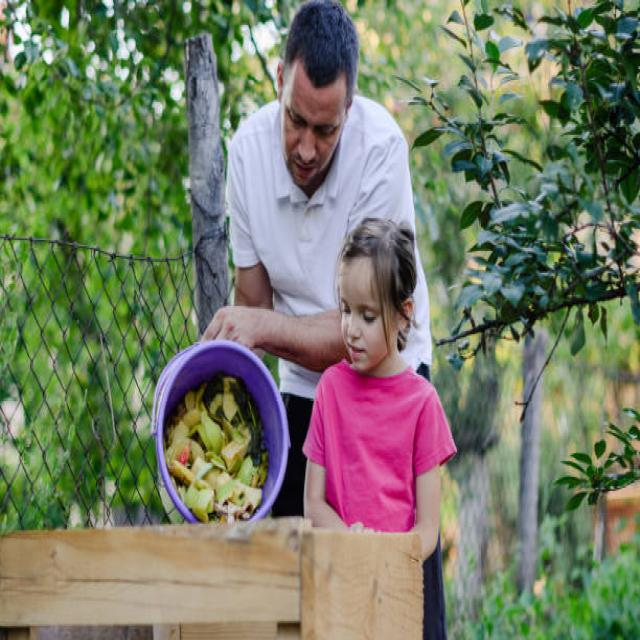trash: (172, 388, 254, 514)
